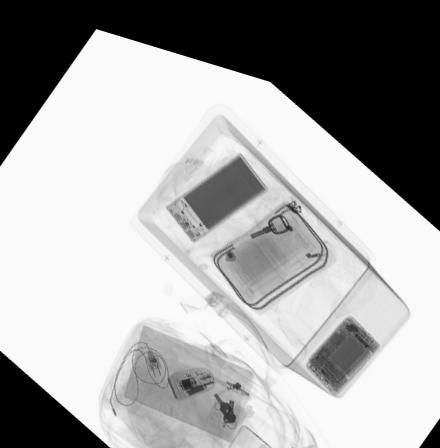Powerbank: (164, 136, 272, 233)
